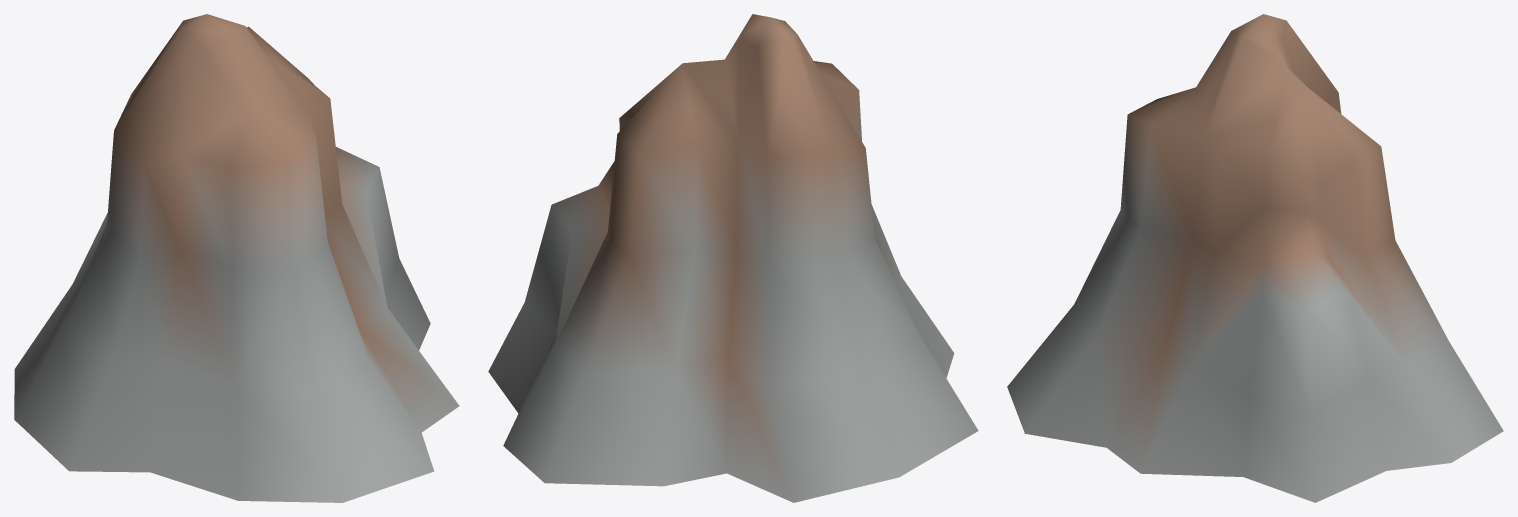
3 renders of one model, left to right at view 1: azimuth 30°, elevation 25°; view 2: azimuth 150°, elevation 25°; view 3: azimuth 270°, elevation 25°, orthographic. The views are drawn at different scales.
Visible parts, largest first — view 1: G:\FFXIV-MapTools\exports\s1f6\bg\ffxiv\sea_s1\fld\s1f5\bgpa (×2); view 2: G:\FFXIV-MapTools\exports\s1f6\bg\ffxiv\sea_s1\fld\s1f5\bgpa (×2); view 3: G:\FFXIV-MapTools\exports\s1f6\bg\ffxiv\sea_s1\fld\s1f5\bgpa (×2).
Boxes of the visible parts, x1,y1,x2,y2 form: G:\FFXIV-MapTools\exports\s1f6\bg\ffxiv\sea_s1\fld\s1f5\bgpa (×2): (14,14,459,502); G:\FFXIV-MapTools\exports\s1f6\bg\ffxiv\sea_s1\fld\s1f5\bgpa (×2): (488,14,978,502); G:\FFXIV-MapTools\exports\s1f6\bg\ffxiv\sea_s1\fld\s1f5\bgpa (×2): (1007,14,1503,502).
Size of the model in its own units: 3.16 by 2.79 by 3.38.
